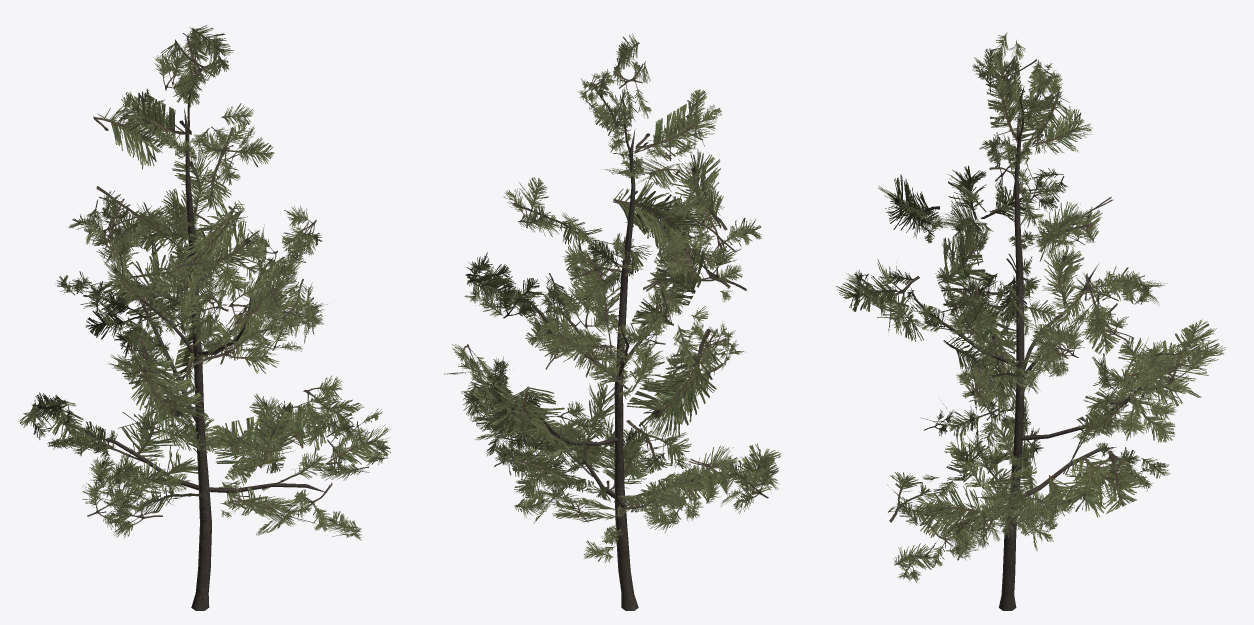
The model's file is pine-sapling-small-c.glb.
3 views of the same model, side by side, from view 1: azimuth 30°, elevation 25°; view 2: azimuth 150°, elevation 25°; view 3: azimuth 270°, elevation 25° (orthographic). The views are drawn at different scales.
Visible parts, largest first — view 1: pine_sapling_small_c; view 2: pine_sapling_small_c; view 3: pine_sapling_small_c.
Boxes of the visible parts, bbox=[...] form: pine_sapling_small_c: bbox=[19, 25, 390, 610]; pine_sapling_small_c: bbox=[444, 34, 781, 610]; pine_sapling_small_c: bbox=[836, 32, 1225, 610].
Bounding box in the file's own units: 0.5501 × 0.9726 × 0.6302.
2 materials, 2 textured.
